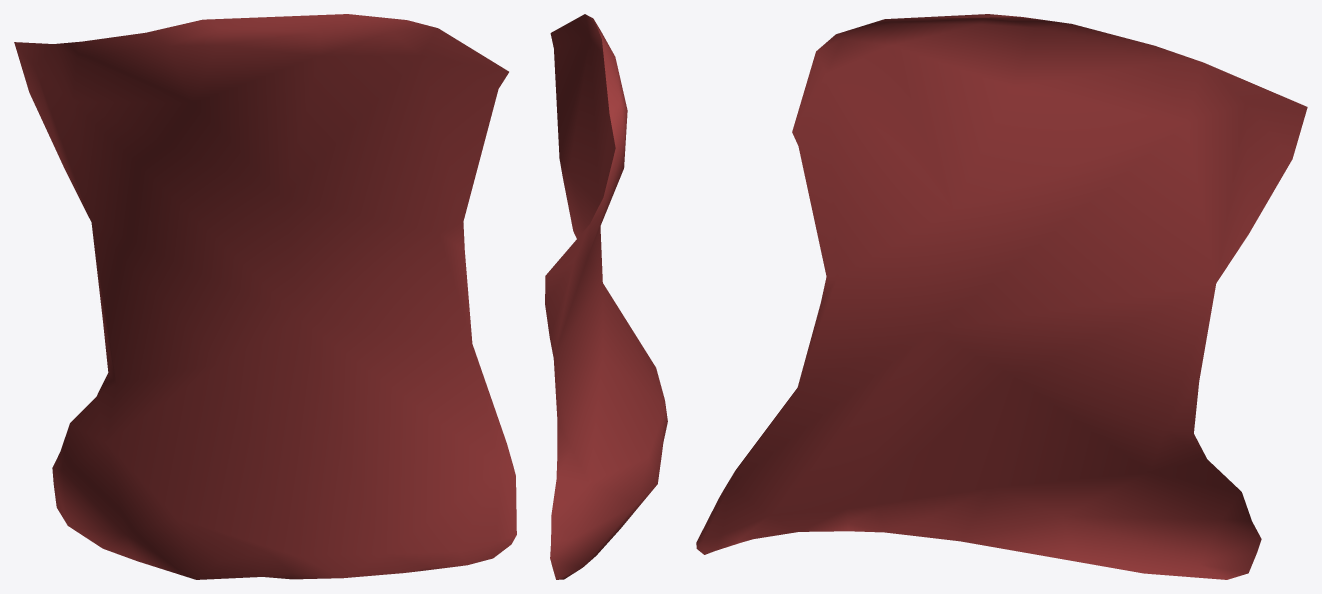
The model's file is diaphragm-o1r.glb.
The picture shows the model from 3 angles, left to right: view 1: azimuth 30°, elevation 25°; view 2: azimuth 150°, elevation 25°; view 3: azimuth 270°, elevation 25°; orthographic projection. The views are drawn at different scales.
Parts seen in each view (by area): view 1: Diaphragm.o1r; view 2: Diaphragm.o1r; view 3: Diaphragm.o1r.
Part boxes in pixels (x1=…): Diaphragm.o1r: x1=14, y1=14, x2=516, y2=579; Diaphragm.o1r: x1=545, y1=14, x2=667, y2=579; Diaphragm.o1r: x1=696, y1=14, x2=1307, y2=579.
Bounding box in the file's own units: 0.0136 × 0.0309 × 0.0275.
